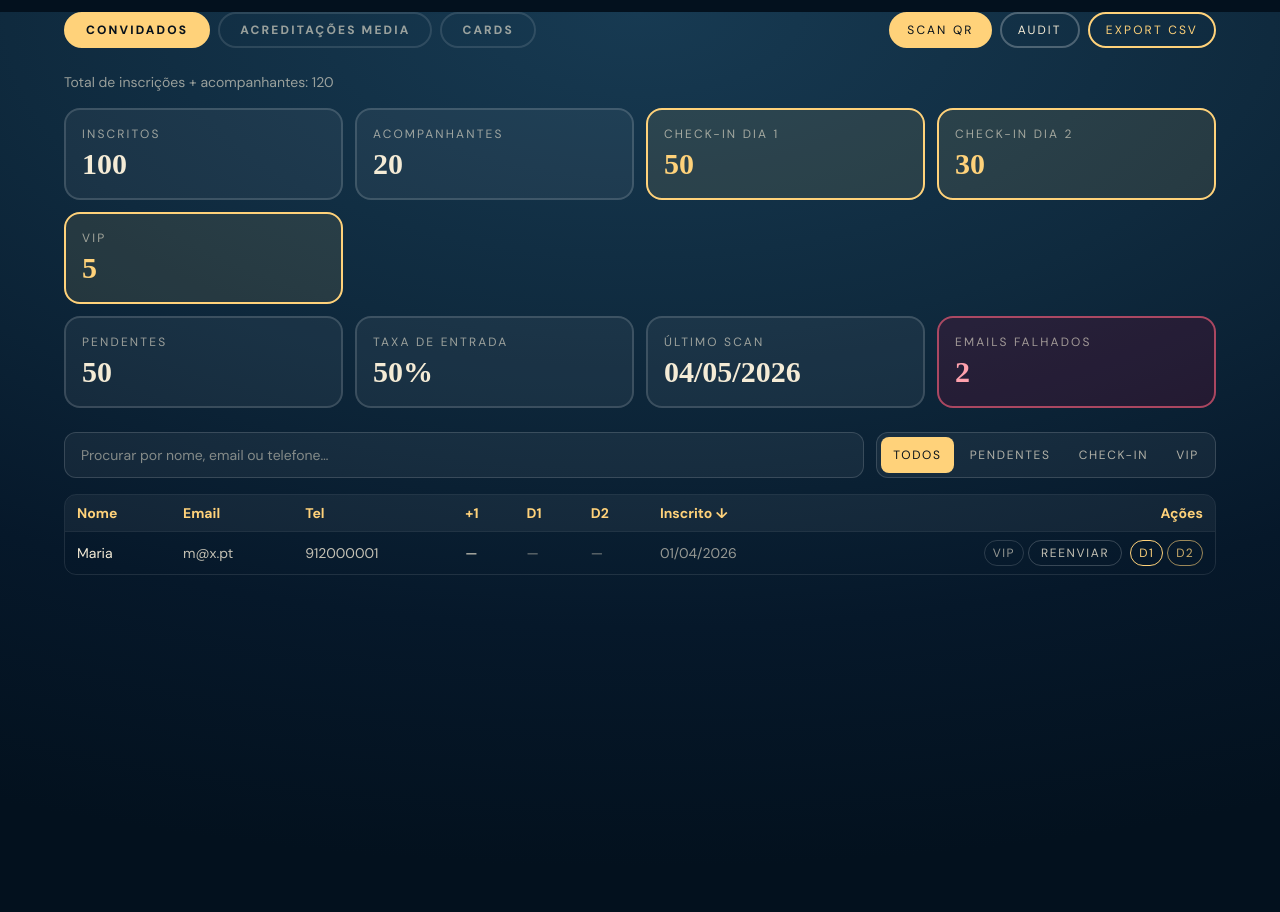
Scenario: DashboardTabs › tab Acreditações mostra dados acreditações
Click the button "Acreditações Media". click: (325, 30)
box: [218,12,432,48]
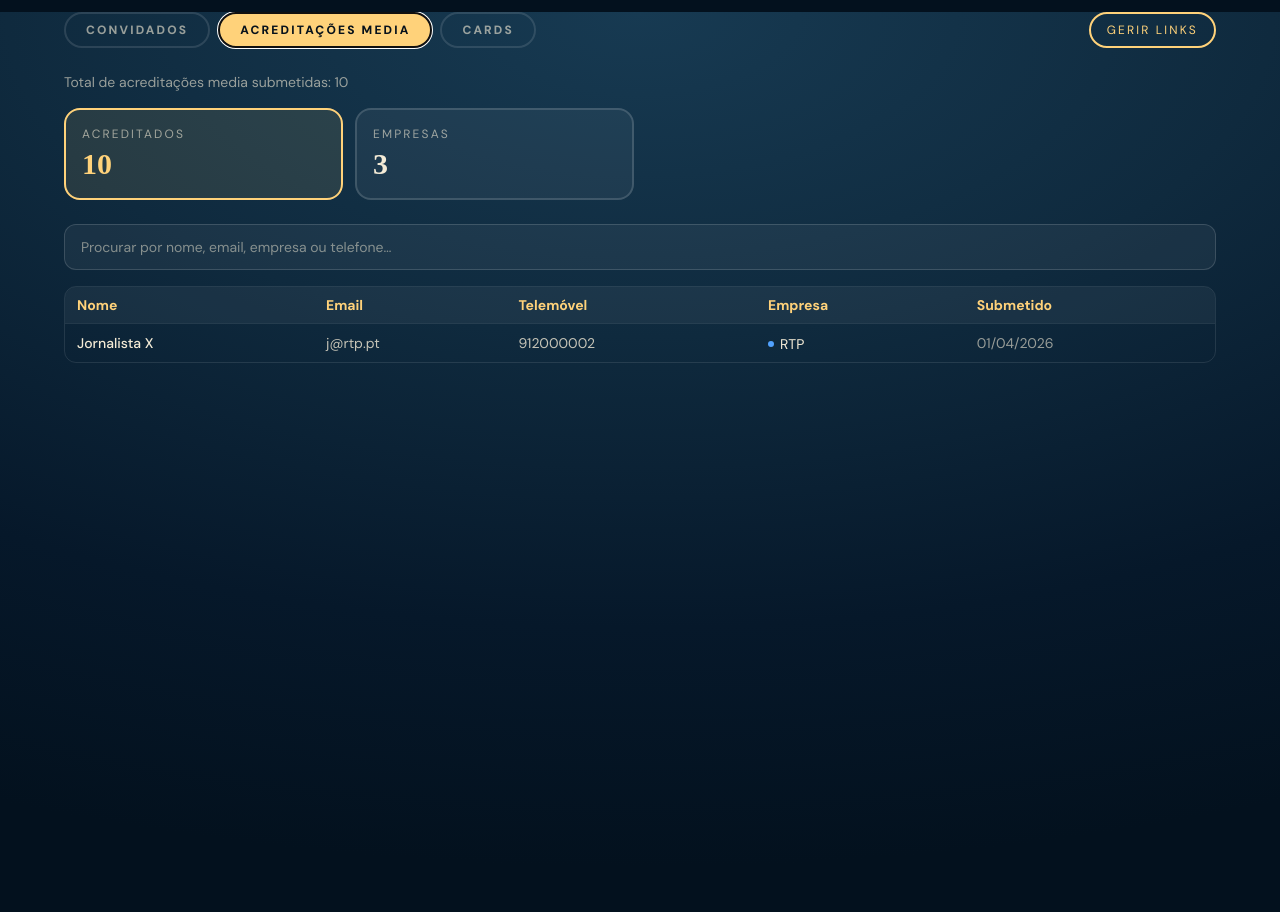
Result: the text "Jornalista X" is shown at [65,324,314,362]
Result: the link "Gerir Links" is shown at [1089,12,1216,48]
